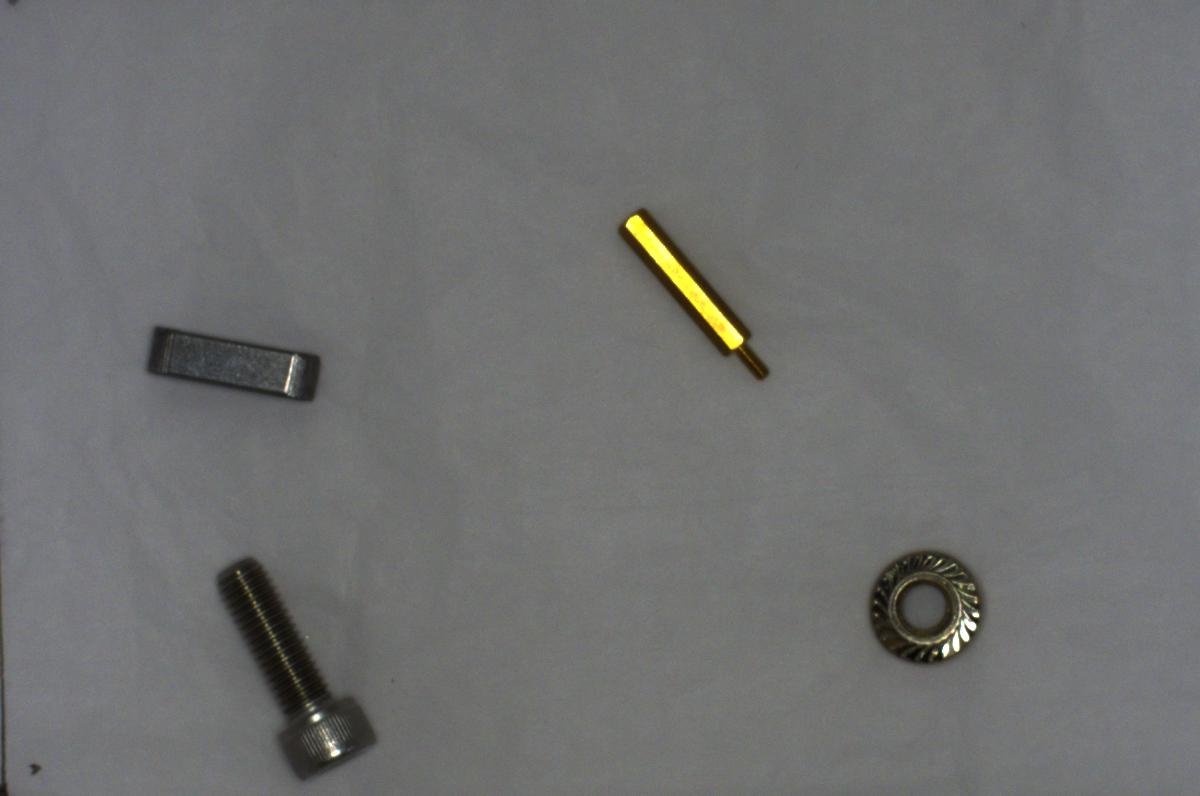Flange nut: (853, 538, 987, 669)
Hexagon pillar: (618, 205, 772, 387)
Hexagon screw: (215, 552, 385, 780)
Keybar: (138, 319, 321, 403)
